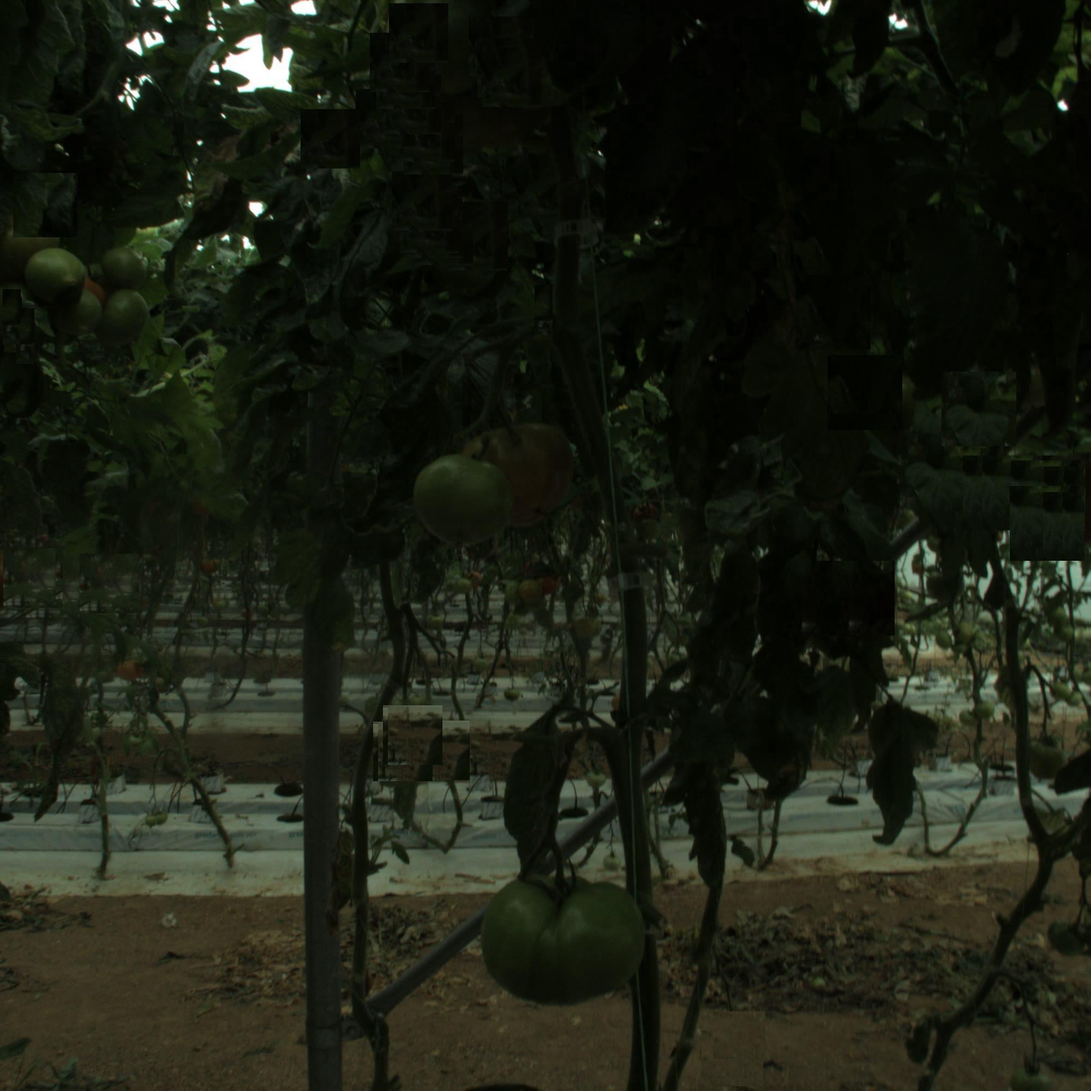semi-ripe: (464, 416, 578, 529)
unripe: (483, 856, 642, 1015), (416, 449, 513, 547), (82, 287, 147, 351), (17, 241, 82, 305), (95, 247, 159, 311), (42, 278, 106, 342)
